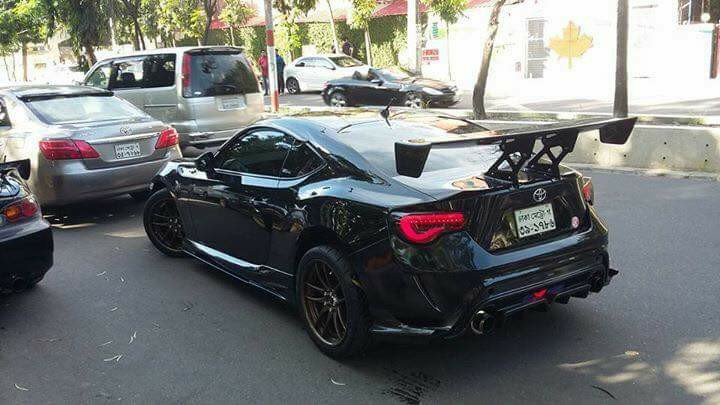registration_plate: (513, 201, 557, 239), (114, 142, 141, 159), (221, 97, 242, 109)
